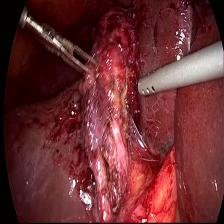Grasper: (42, 21, 105, 80)
Irrigator: (136, 66, 167, 103)
